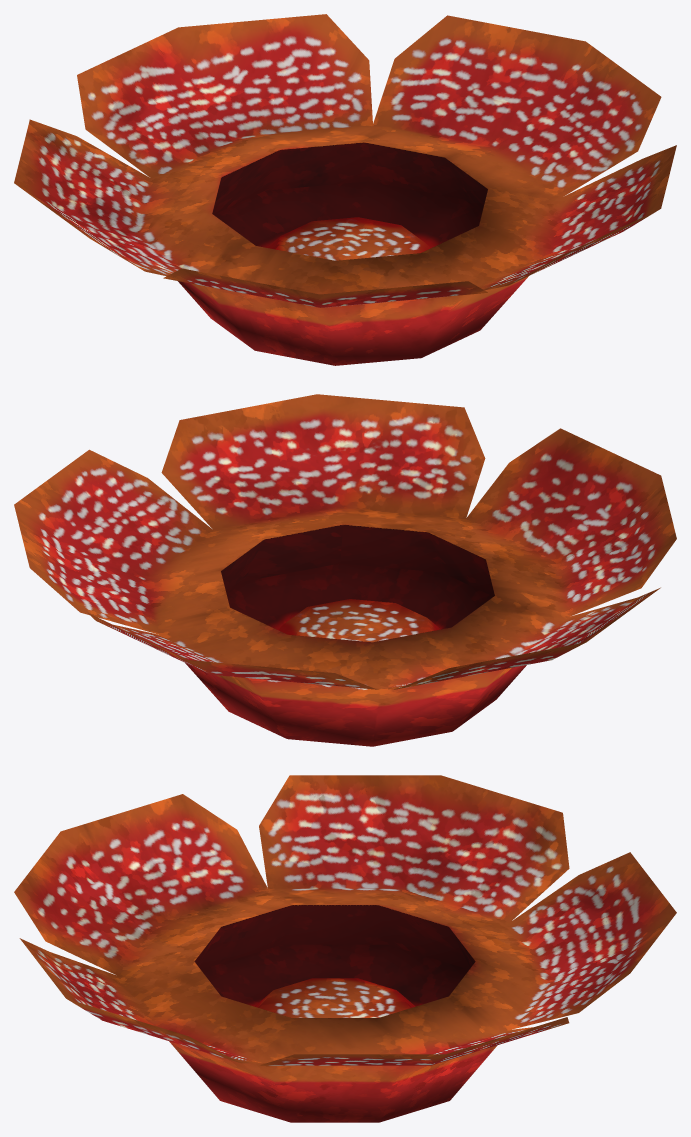
File: art_3D model_environment_rafflesia.fbx
The picture shows the model from 3 angles, top to bottom: view 1: azimuth 30°, elevation 25°; view 2: azimuth 150°, elevation 25°; view 3: azimuth 270°, elevation 25°; orthographic projection.
Visible parts, largest first — view 1: Cylinder; view 2: Cylinder; view 3: Cylinder.
Boxes of the visible parts, x1,y1,x2,y2 form: Cylinder: (14, 14, 676, 365); Cylinder: (14, 394, 676, 746); Cylinder: (14, 775, 676, 1122).
Bounding box in the file's own units: 87.08 × 22.2 × 87.37.
Materials: 1 (1 with a texture image).
